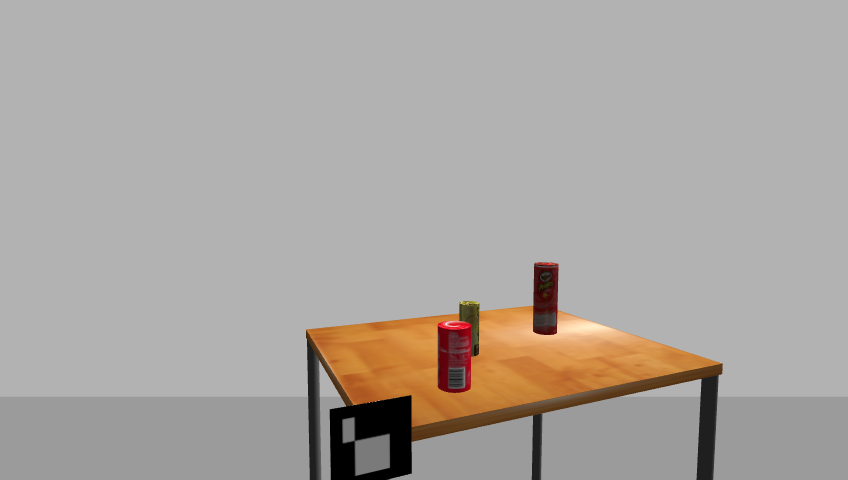aruco marker: (323, 395, 417, 480)
biscuits pack: (459, 301, 481, 358)
coke can: (435, 321, 473, 393)
dinner table: (295, 310, 732, 479)
pringles can: (532, 261, 561, 337)
